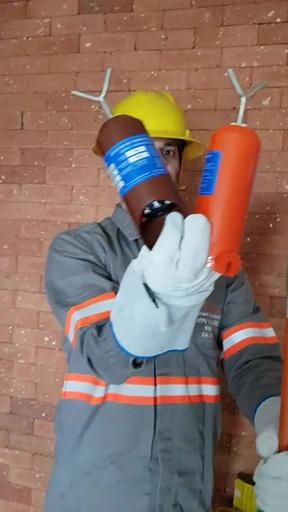Detector_Tensao_Contato: (71, 65, 190, 251), (193, 65, 271, 276)
